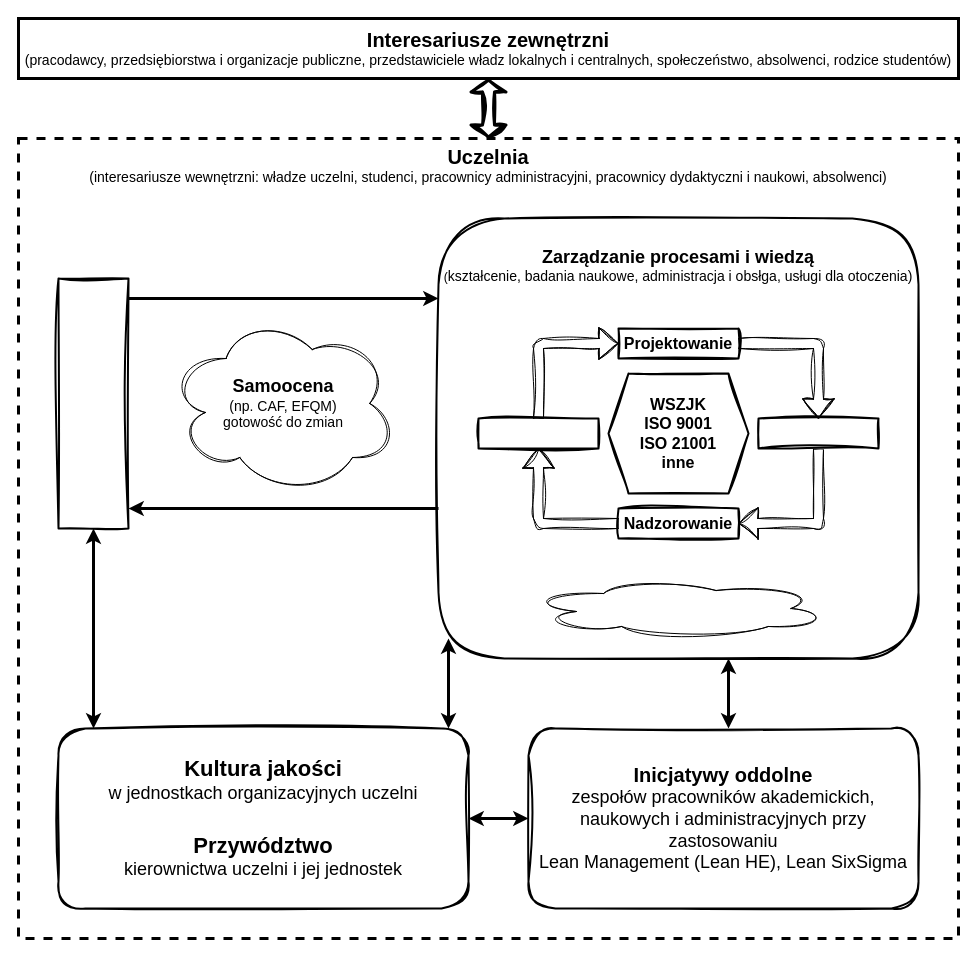
Some shapes in this 977 by 957 pixel diagram are drawn without their labels. Each missing label, with the box of its shape:
Doskonalenie: (477, 417, 599, 449)
Strategia uczelni: (57, 277, 129, 529)
Wdrażanie: (757, 417, 879, 449)
Wsparcie informatyczne: (528, 578, 828, 638)
